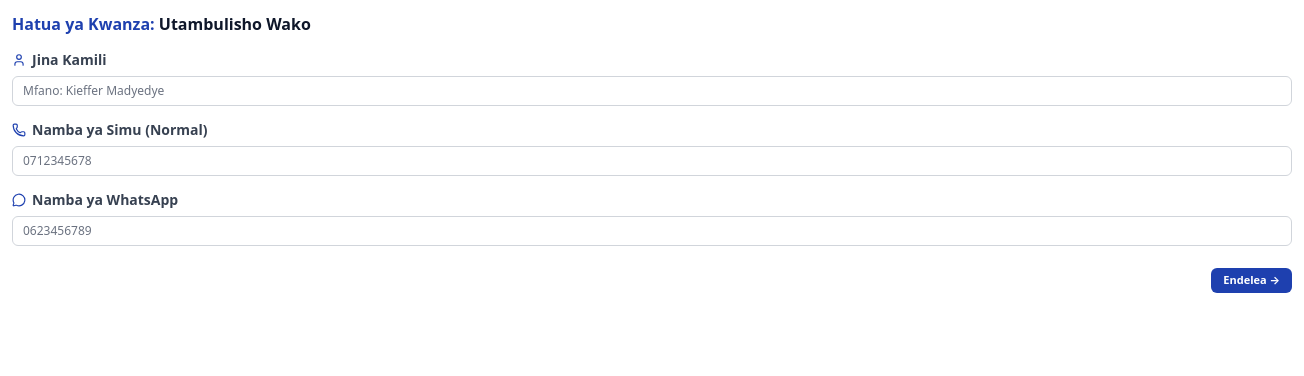
Test case: Step1Identity › shows the required messages on an empty submit and does not advance
Click the button "Endelea →" at {"x": 1252, "y": 280}, box [1211, 268, 1292, 292]
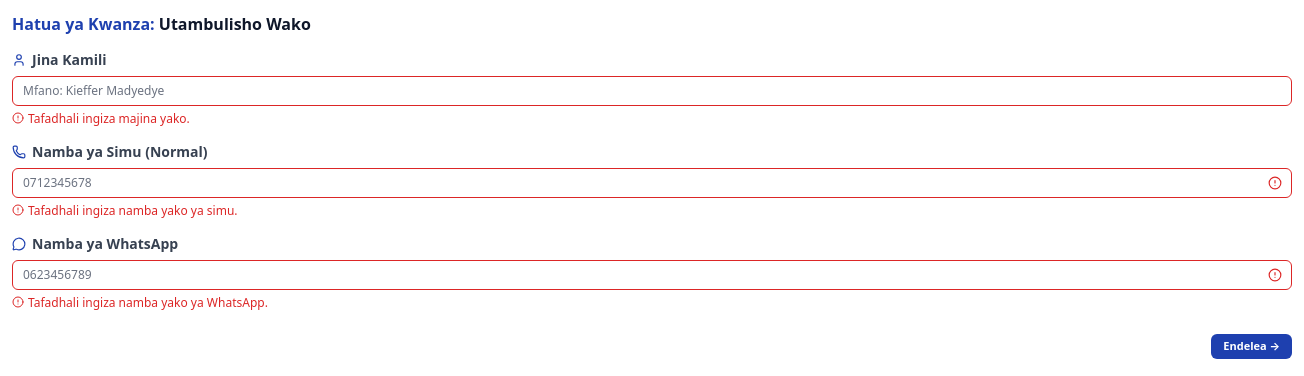
Check: the text "Tafadhali ingiza majina yako." is shown, box [28, 110, 190, 128]
Check: the text "Tafadhali ingiza namba yako ya simu." is shown, box [28, 202, 238, 220]
Check: the text "Tafadhali ingiza namba yako ya WhatsApp." is shown, box [28, 294, 268, 312]
